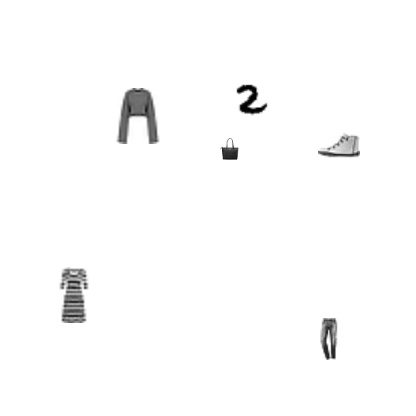2: (228, 79, 270, 121)
Ankle_boot: (318, 124, 360, 166)
Bag: (218, 138, 240, 160)
Dress: (46, 267, 102, 323)
Pullover: (109, 88, 165, 144)
Trouser: (307, 318, 349, 360)
